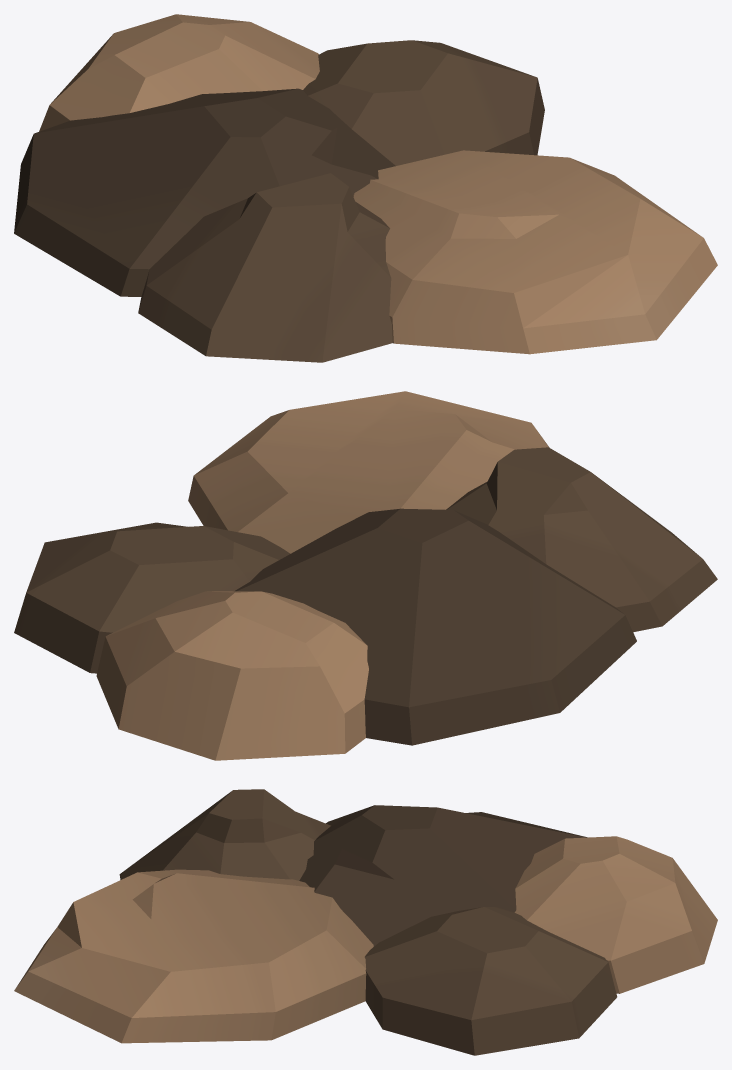
The model's file is ea_swamp_grass_hill_dead_01b_pre__4_lev1.glb.
3 views of the same model, one above another, from view 1: azimuth 30°, elevation 25°; view 2: azimuth 150°, elevation 25°; view 3: azimuth 270°, elevation 25° (orthographic). The views are drawn at different scales.
Parts seen in each view (by area): view 1: ea_swamp_grass_hill_dead_01b_pre__4_lev1; view 2: ea_swamp_grass_hill_dead_01b_pre__4_lev1; view 3: ea_swamp_grass_hill_dead_01b_pre__4_lev1.
Boxes of the visible parts, <box> form: ea_swamp_grass_hill_dead_01b_pre__4_lev1: <box>14,14,717,362</box>; ea_swamp_grass_hill_dead_01b_pre__4_lev1: <box>14,391,717,760</box>; ea_swamp_grass_hill_dead_01b_pre__4_lev1: <box>14,789,717,1055</box>.
Size of the model in its own units: 1.15 by 0.225 by 1.52.
Materials: 1 (1 with a texture image).
